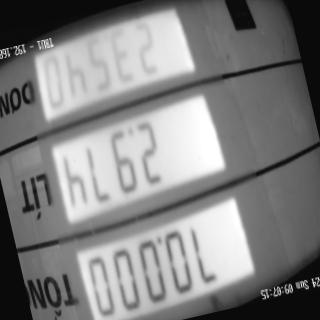screen: (8, 0, 268, 320)
